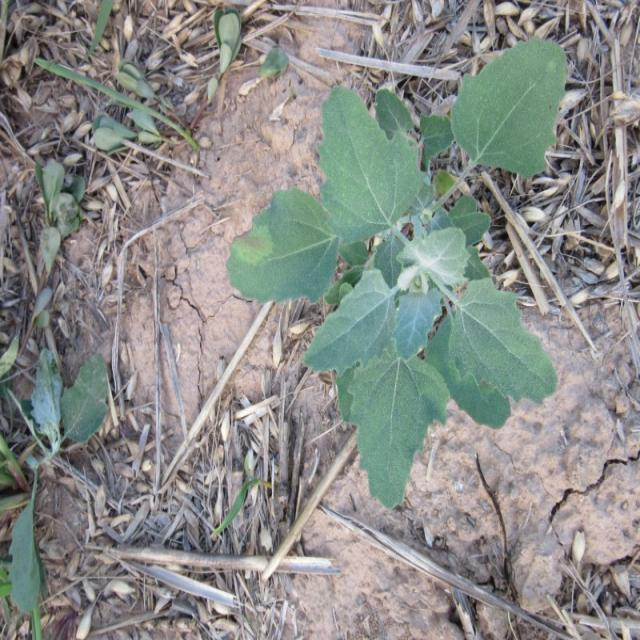ca: (226, 38, 572, 510)
